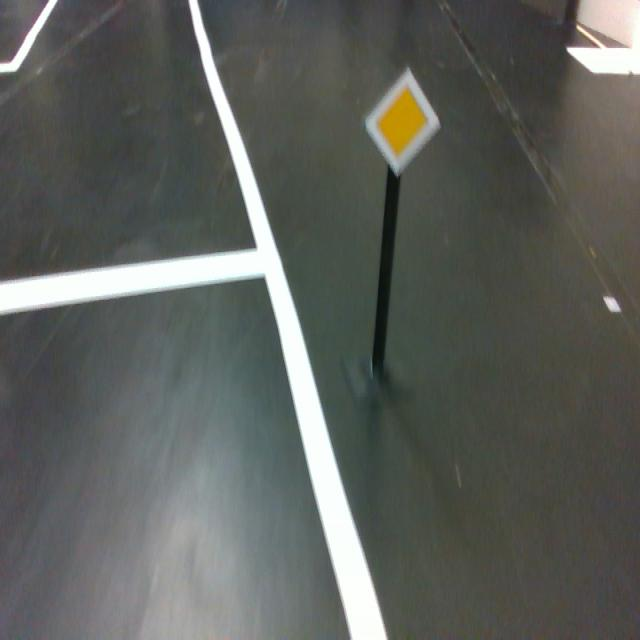priority-sign: (362, 65, 441, 178)
